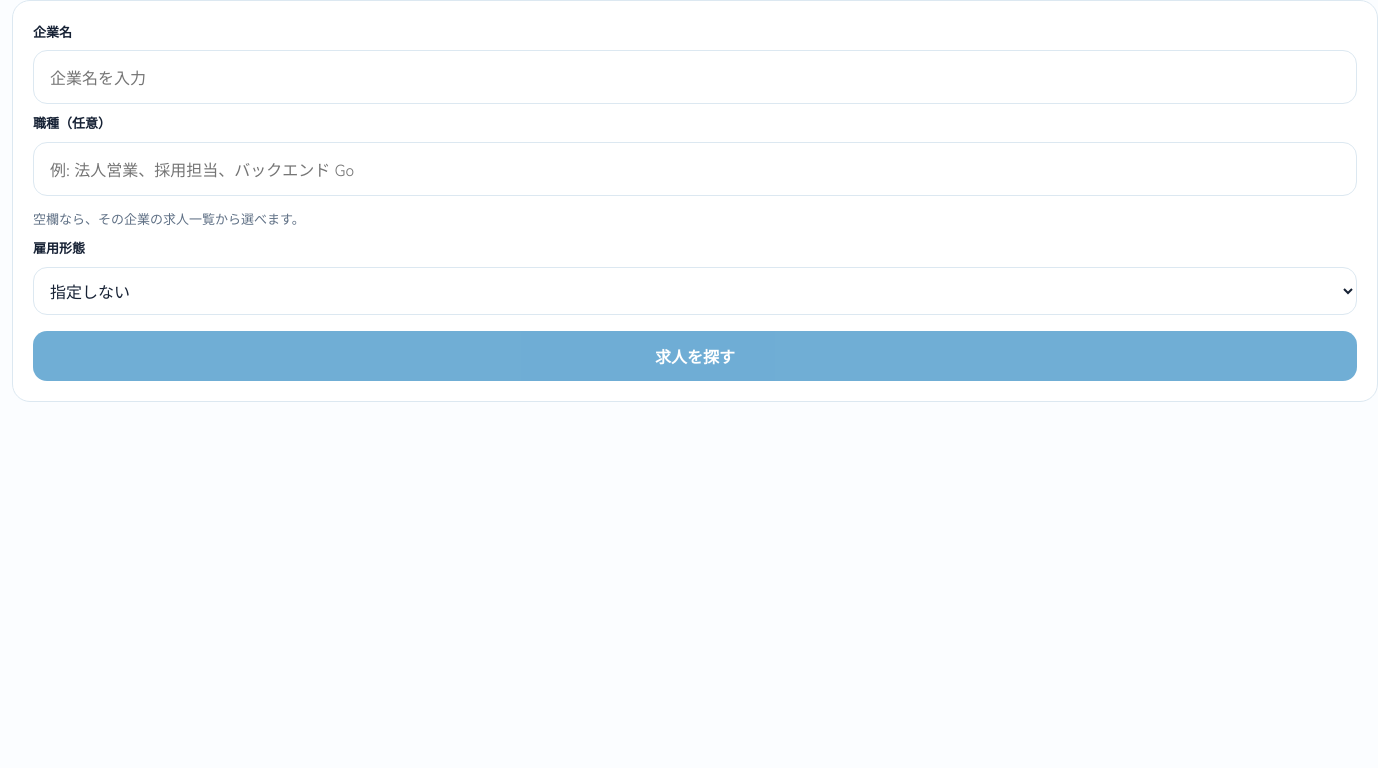
Test: a clearly identified posting is analyzed once, without extra clicks
In the field labelled "企業名": (695, 77) [33,50,1357,104], type "サンプル"
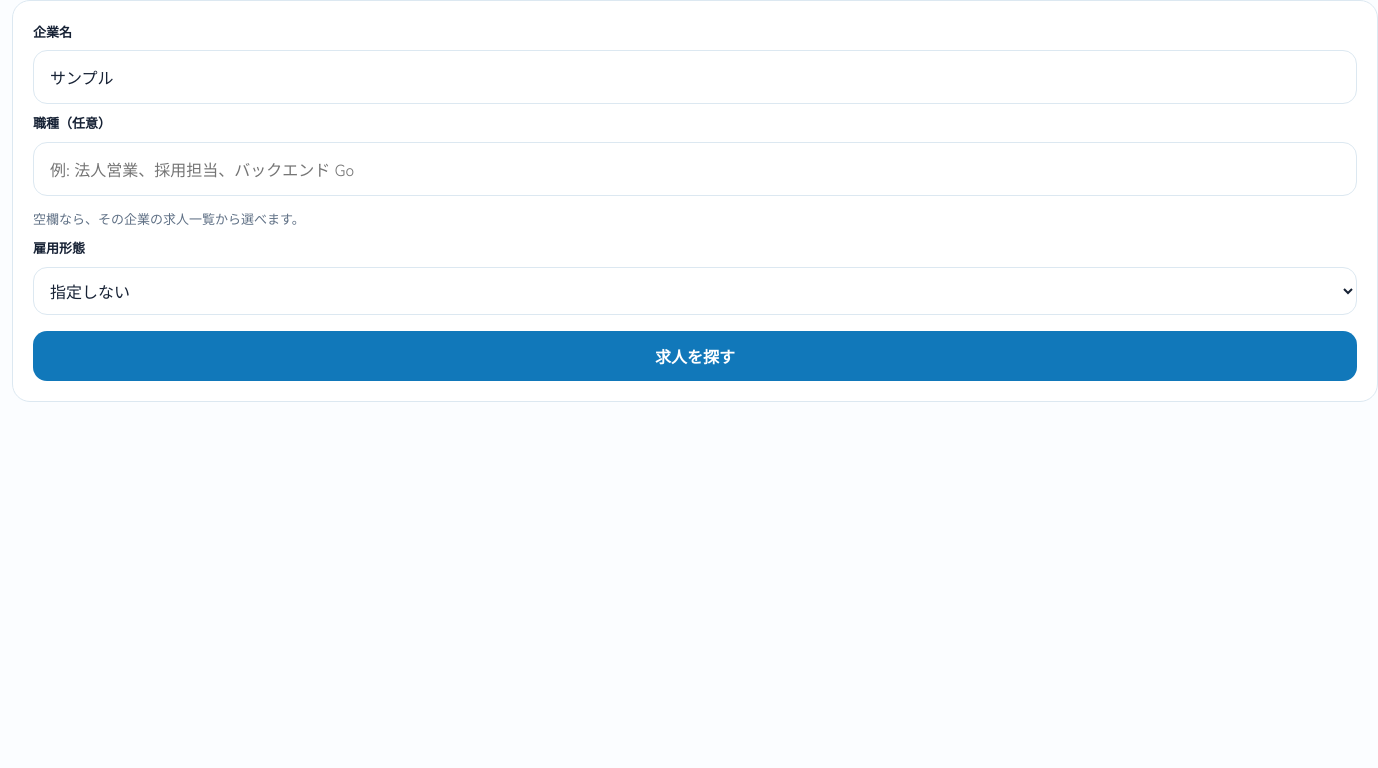
In the field labelled "職種（任意）": (695, 169) [33,142,1357,196], type "法人営業"
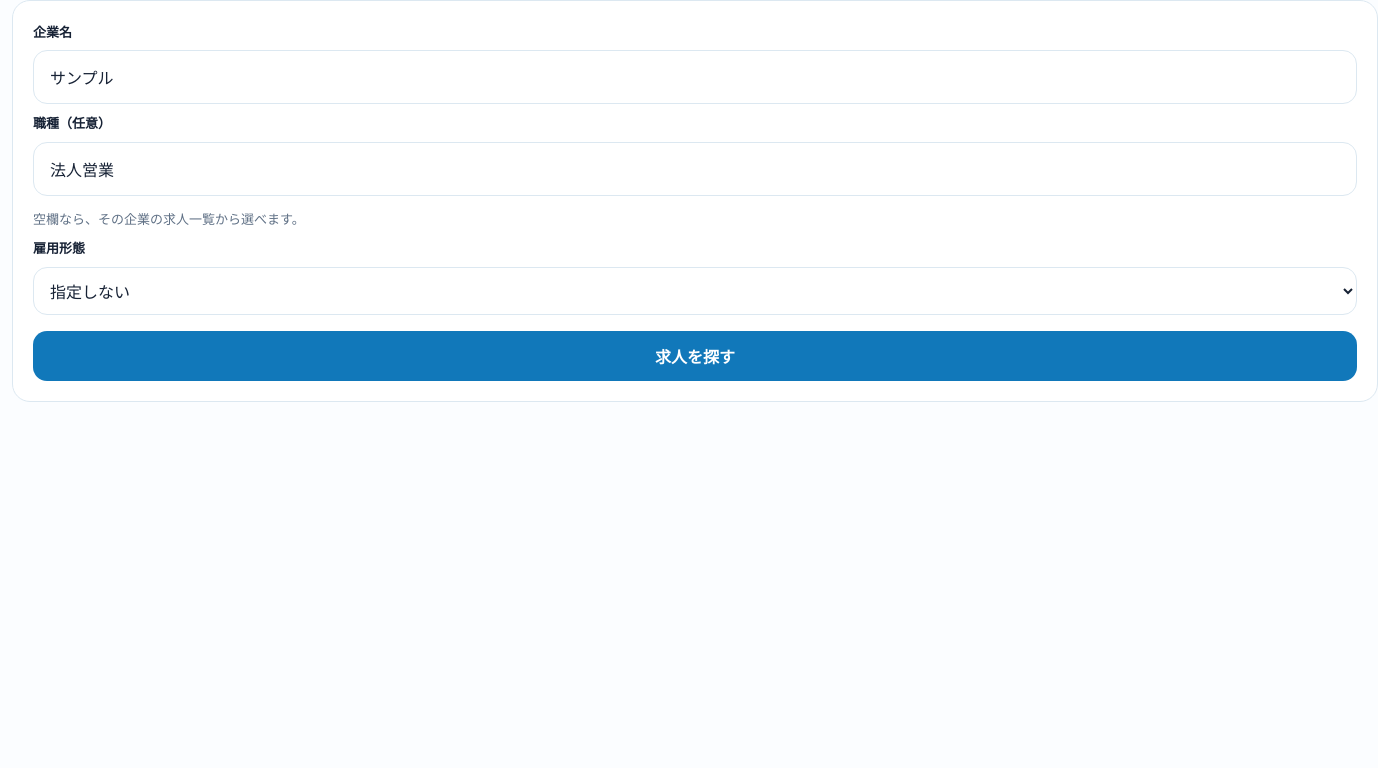
Click the button "求人を探す": (695, 356) [33,331,1357,381]
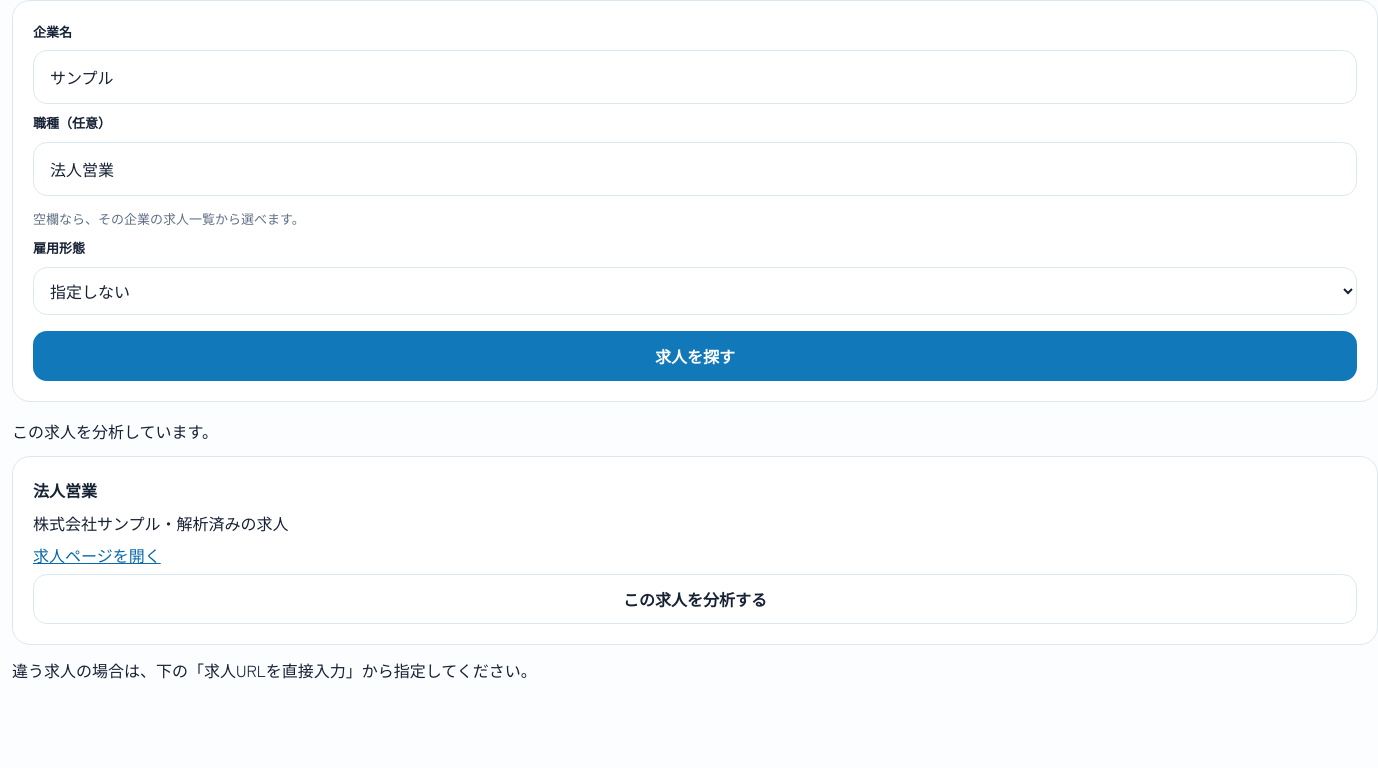
Expected: the text "この求人を分析しています。" is shown, [12,419,218,443]
